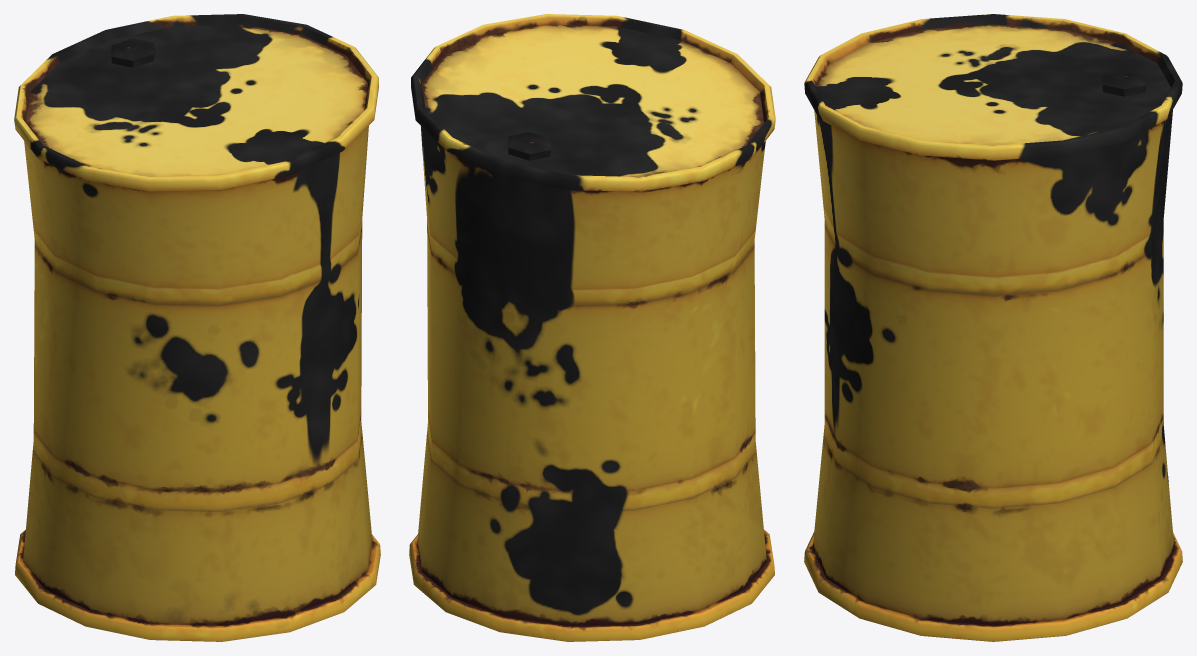
The model's file is BarrelMetallic03_1.FBX.
3 renders of one model, left to right at view 1: azimuth 30°, elevation 25°; view 2: azimuth 150°, elevation 25°; view 3: azimuth 270°, elevation 25°, orthographic. The views are drawn at different scales.
Parts seen in each view (by area): view 1: BarrelMetallic03_1; view 2: BarrelMetallic03_1; view 3: BarrelMetallic03_1.
Part boxes in pixels (box(x1,y1,x2,y2)): BarrelMetallic03_1: box(14, 14, 380, 641); BarrelMetallic03_1: box(409, 14, 775, 641); BarrelMetallic03_1: box(804, 14, 1182, 641).
Size of what is drawn, in the model's own units: 0.7502 by 1.07 by 0.7485.
